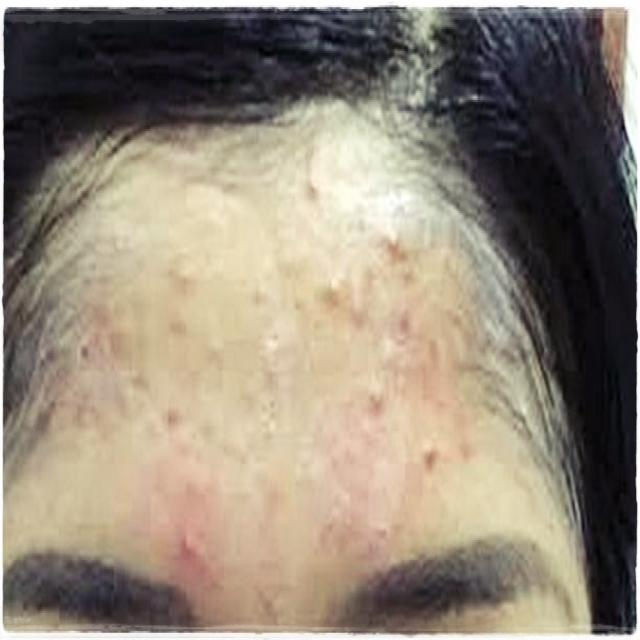Acne: (54, 204, 478, 608)
